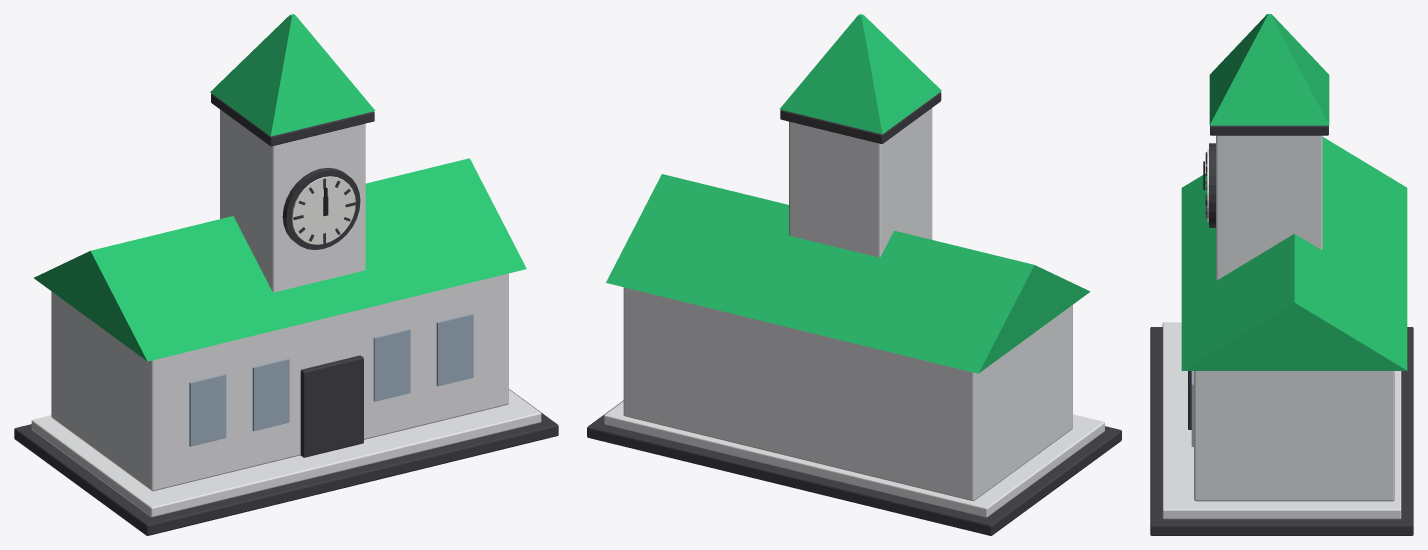
File: town-hall.glb
The picture shows the model from 3 angles, left to right: view 1: azimuth 30°, elevation 25°; view 2: azimuth 150°, elevation 25°; view 3: azimuth 270°, elevation 25°; orthographic projection.
Visible parts, largest first — view 1: town_hall; view 2: town_hall; view 3: town_hall.
Part boxes in pixels (left/top/right/bottom): town_hall: left=14, top=14, right=558, bottom=535; town_hall: left=587, top=14, right=1121, bottom=535; town_hall: left=1150, top=14, right=1413, bottom=535.
Bounding box in the file's own units: 15 × 14.85 × 8.4.
